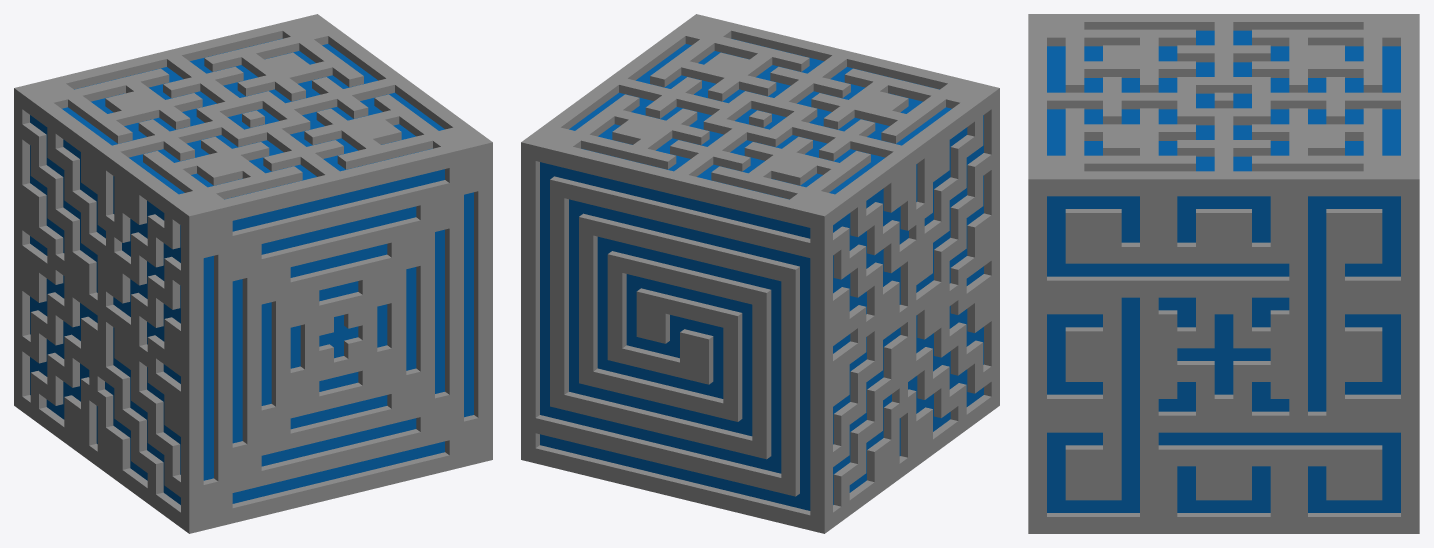
File: tamer.FBX
The picture shows the model from 3 angles, left to right: view 1: azimuth 30°, elevation 25°; view 2: azimuth 150°, elevation 25°; view 3: azimuth 270°, elevation 25°; orthographic projection. The views are drawn at different scales.
Visible parts, largest first — view 1: Bloc_07_fige; view 2: Bloc_07_fige; view 3: Bloc_07_fige.
Boxes of the visible parts, bbox=[...] form: Bloc_07_fige: bbox=[14, 14, 492, 533]; Bloc_07_fige: bbox=[521, 14, 999, 533]; Bloc_07_fige: bbox=[1028, 14, 1419, 533].
Bounding box in the file's own units: 100 × 100 × 100.
